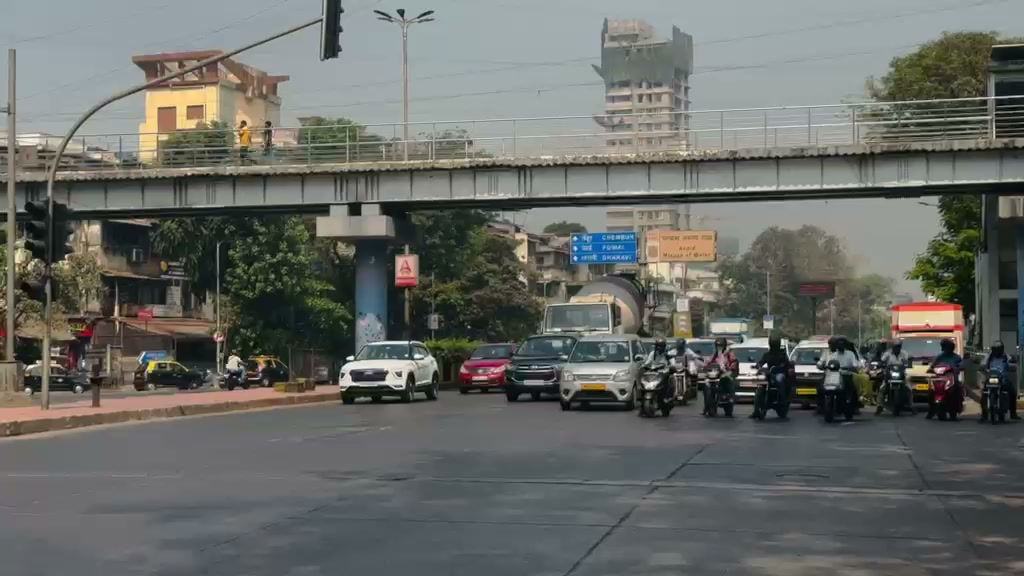car: (556, 334, 647, 411), (339, 340, 440, 404), (723, 339, 793, 416), (504, 334, 577, 402), (457, 343, 515, 394), (787, 341, 829, 400), (22, 359, 91, 394), (133, 359, 204, 392), (684, 337, 722, 379), (247, 355, 290, 387)
motorcycle: (818, 368, 858, 424), (926, 368, 964, 421), (981, 367, 1015, 425), (637, 367, 673, 419), (874, 368, 913, 416), (703, 372, 737, 418)
pedestrian: (818, 337, 863, 417), (927, 337, 965, 420), (983, 342, 1017, 420), (879, 340, 911, 410)
truck: (886, 301, 966, 400)
